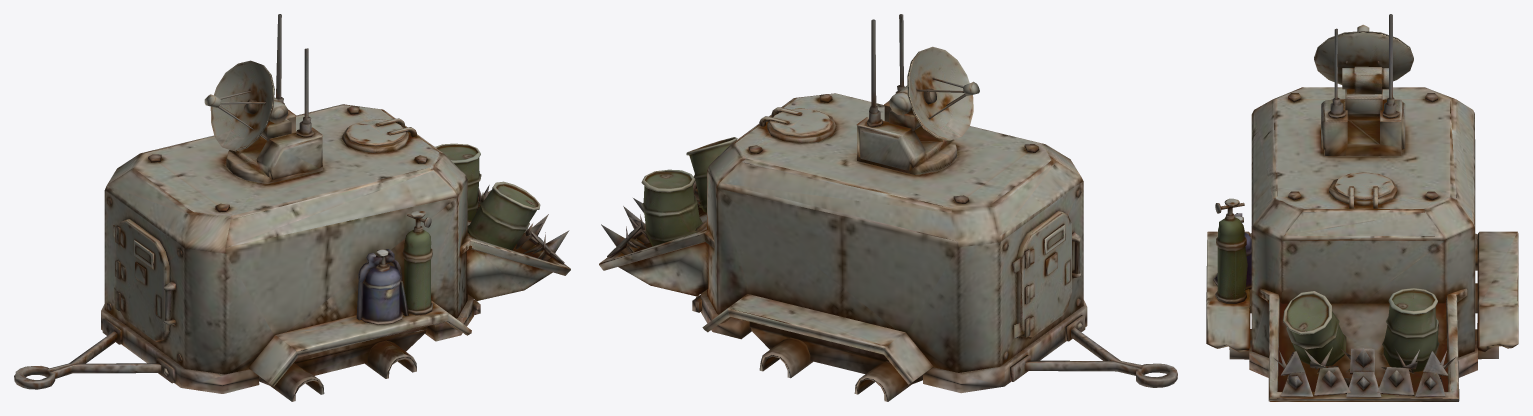
File: big_rig_rear_body.glb
3 renders of one model, left to right at view 1: azimuth 30°, elevation 25°; view 2: azimuth 150°, elevation 25°; view 3: azimuth 270°, elevation 25°, orthographic. The views are drawn at different scales.
Parts seen in each view (by area): view 1: geometry_0; view 2: geometry_0; view 3: geometry_0.
Boxes of the visible parts, x1,y1,x2,y2 form: geometry_0: (14,14,570,401); geometry_0: (599,14,1177,401); geometry_0: (1206,14,1518,401).
Bounding box in the file's own units: 0.9526 × 0.5435 × 0.4863.
1 material, 1 textured.
